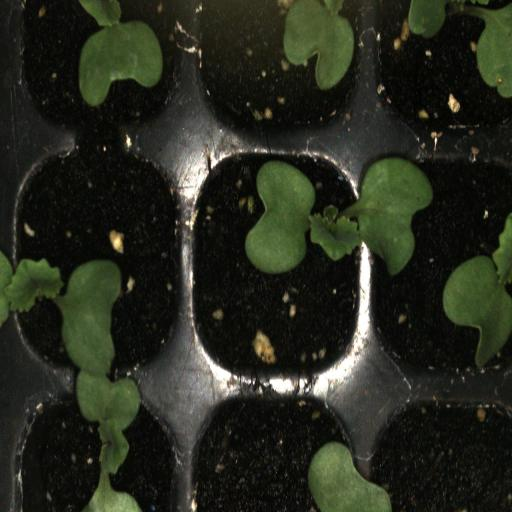Folha: (245, 157, 433, 275), (443, 214, 512, 366), (79, 0, 163, 107), (281, 0, 355, 90), (308, 441, 392, 512), (473, 0, 512, 98)
Germinacao: (186, 136, 371, 388), (2, 135, 185, 385), (367, 136, 512, 387), (9, 381, 180, 512)
